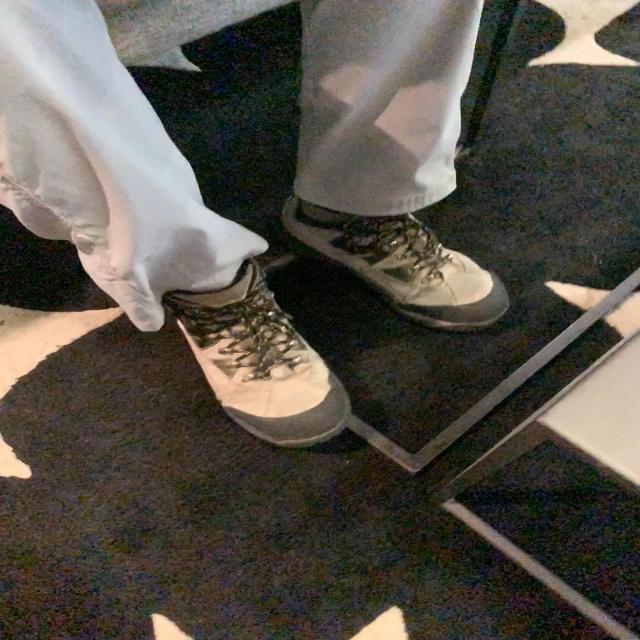shoe: (162, 262, 352, 451), (282, 200, 512, 331)
